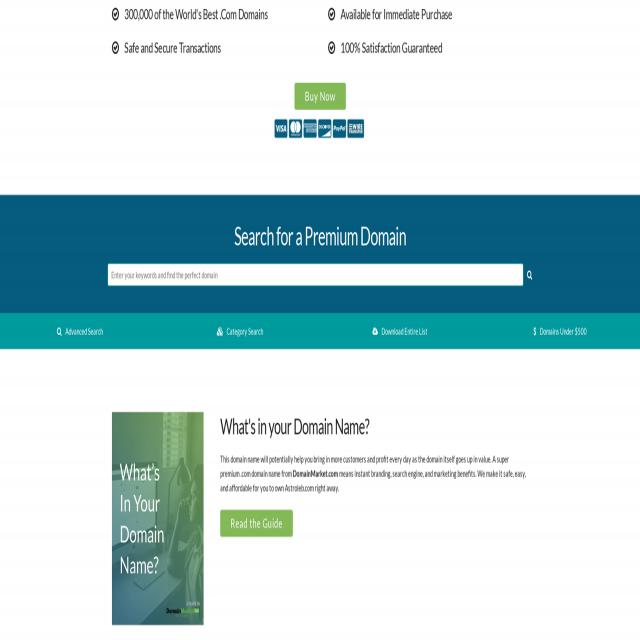button: (112, 412, 204, 625), (220, 510, 293, 537), (526, 319, 594, 344), (209, 319, 271, 345), (366, 320, 434, 343), (52, 319, 108, 345), (294, 83, 346, 110), (346, 116, 366, 141), (274, 116, 288, 141), (289, 116, 303, 141), (303, 116, 317, 141), (318, 116, 332, 141), (333, 116, 347, 141), (523, 263, 535, 285)
field: (108, 265, 523, 285)
